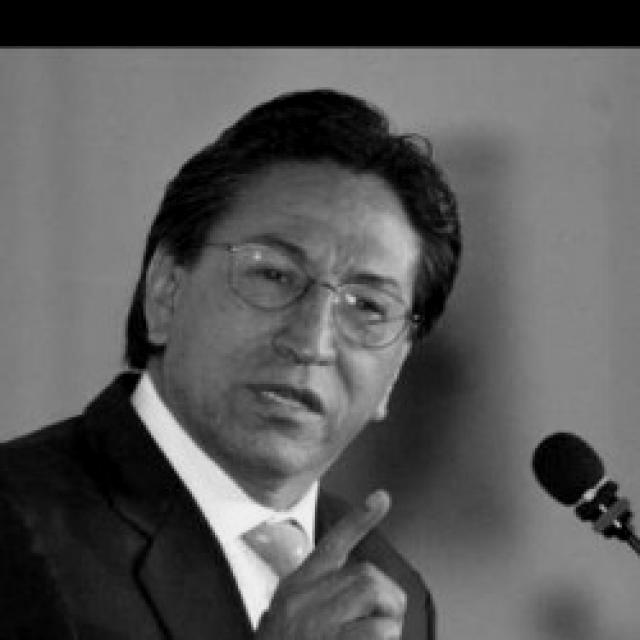real: (176, 163, 415, 463), (238, 248, 396, 334)
